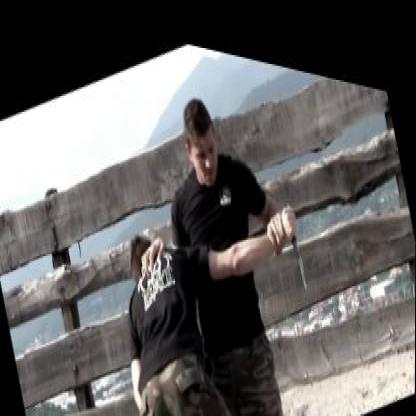knife: (278, 180, 310, 283)
